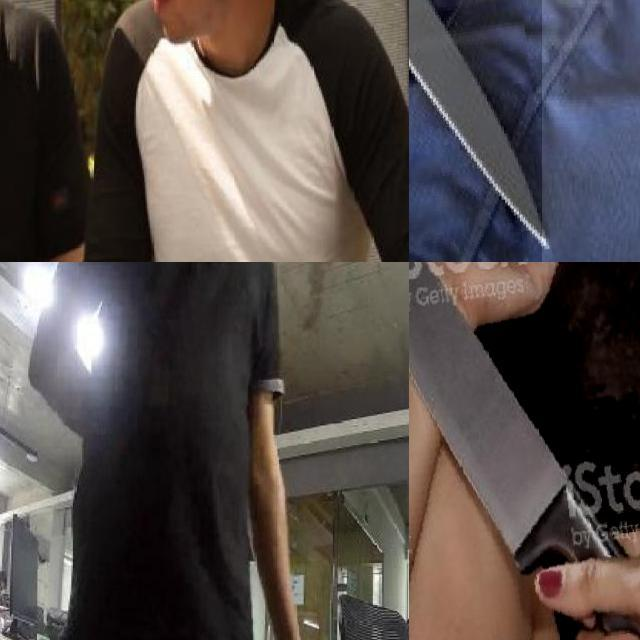-: (409, 262, 640, 640), (409, 0, 542, 262)
